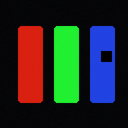1 square: (101, 51, 111, 61)
